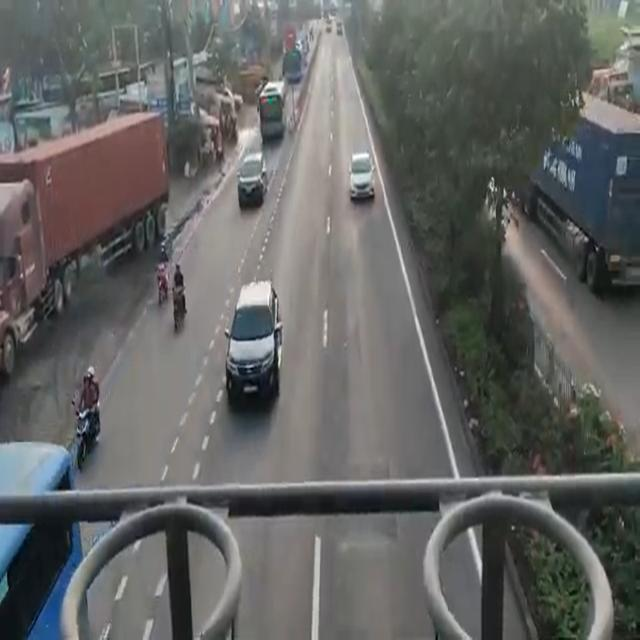bus: (258, 90, 290, 146)
car: (229, 283, 280, 405), (344, 148, 378, 210), (240, 153, 267, 208)
motor: (169, 264, 186, 336), (76, 398, 99, 450), (154, 244, 167, 307)
truck: (0, 113, 161, 334)
